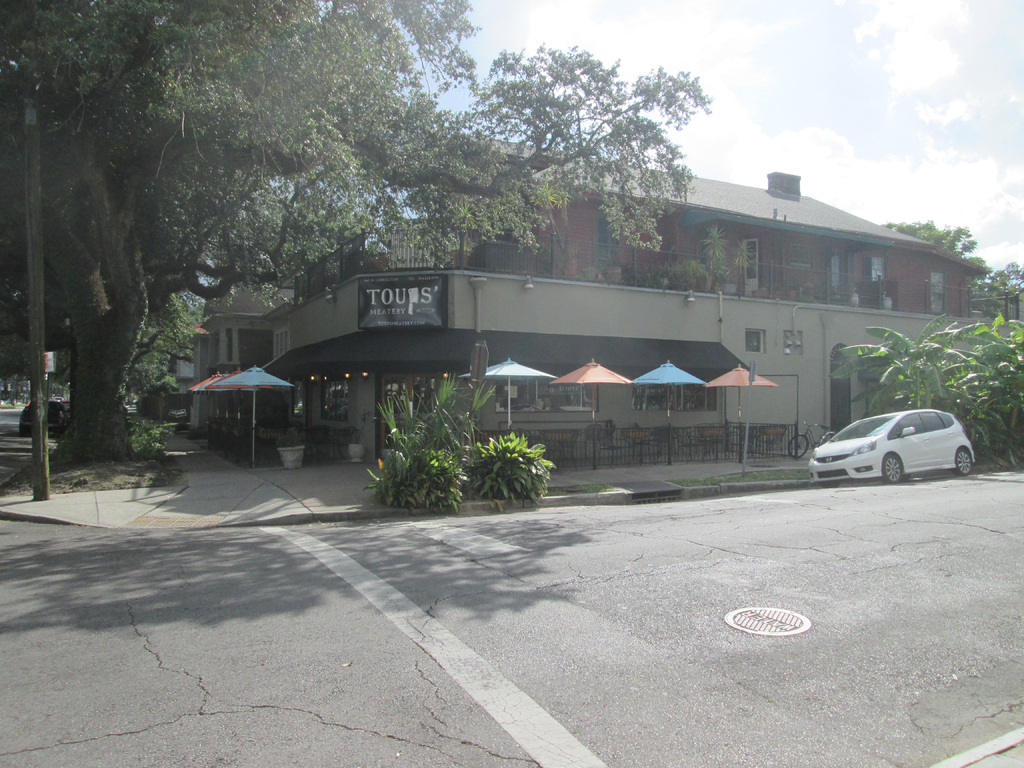Car: (804, 405, 976, 480), (13, 402, 66, 440), (0, 396, 10, 407)
